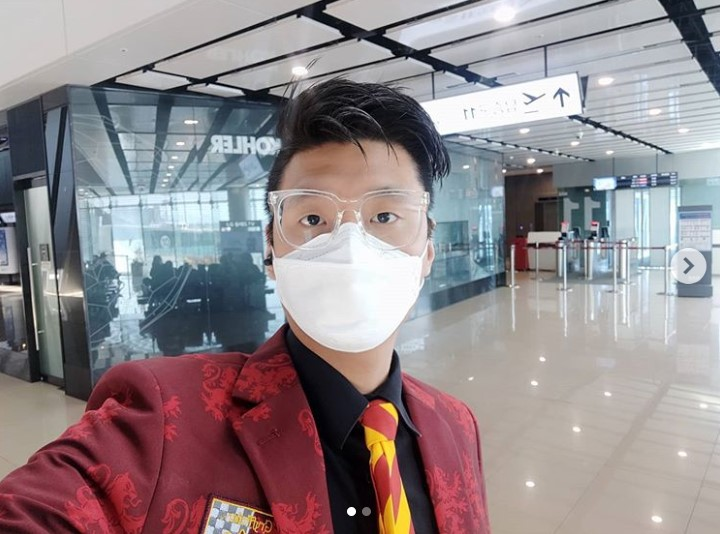face_with_mask: (271, 83, 437, 353)
